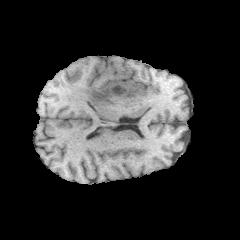glioma: (80, 81, 148, 106)
